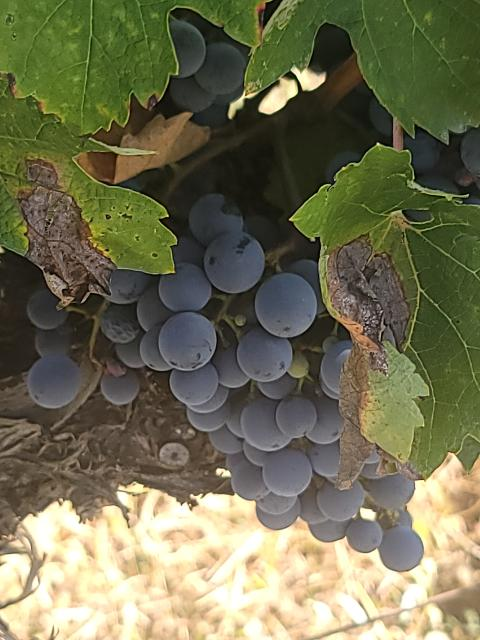grapes: (100, 195, 421, 570)
